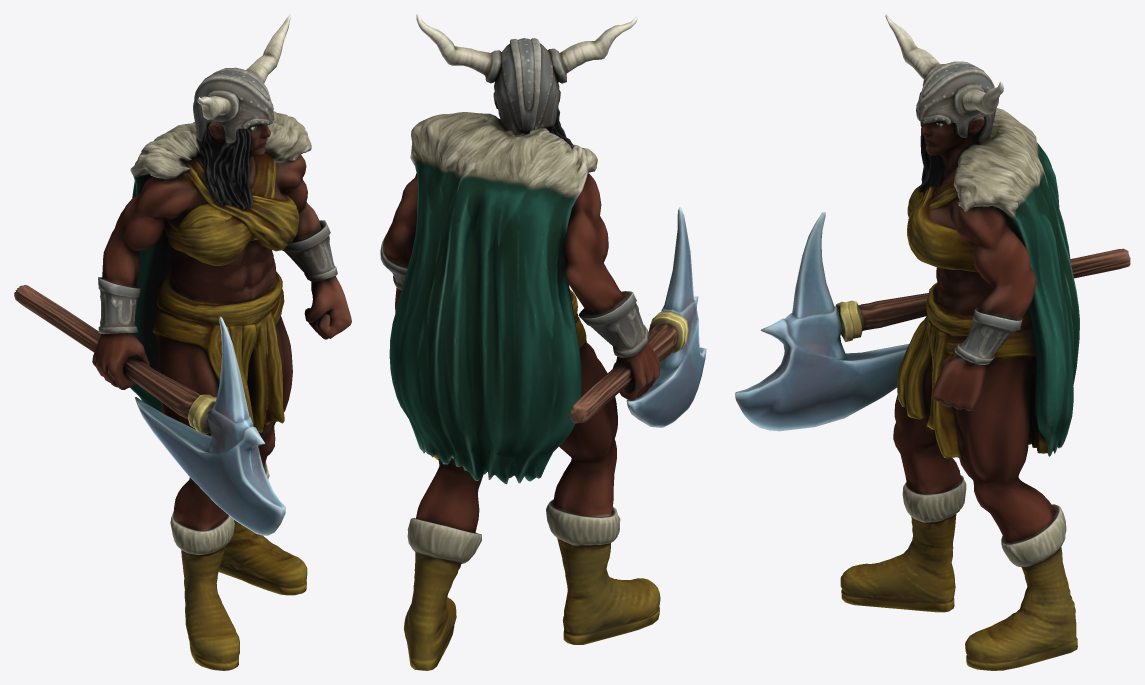
File: MZ4250 - Human Barbarian Female 01.glb
3 renders of one model, left to right at view 1: azimuth 30°, elevation 25°; view 2: azimuth 150°, elevation 25°; view 3: azimuth 270°, elevation 25°, orthographic. The views are drawn at different scales.
Parts seen in each view (by area): view 1: body_high.002, axe_high.002; view 2: body_high.002, axe_high.002; view 3: body_high.002, axe_high.002.
Boxes of the visible parts, left/top/right/bottom form: body_high.002: left=92, top=14, right=351, bottom=670; axe_high.002: left=14, top=285, right=285, bottom=535; body_high.002: left=380, top=14, right=660, bottom=670; axe_high.002: left=570, top=207, right=706, bottom=427; body_high.002: left=840, top=14, right=1079, bottom=670; axe_high.002: left=735, top=212, right=1130, bottom=431.
Bounding box in the file's own units: 3.12 × 6.75 × 4.13.
Materials: 1 (1 with a texture image).
